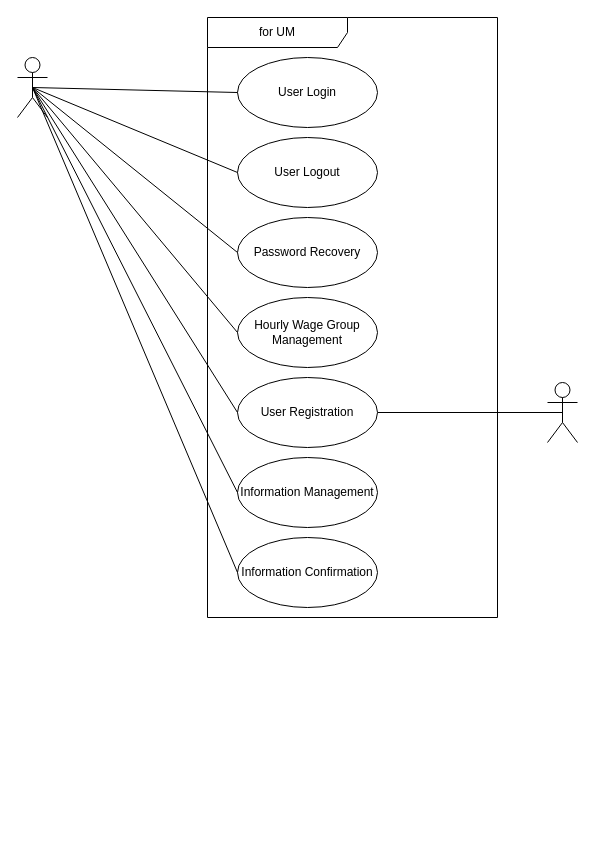
Some shapes in this 604 by 863 pixel diagram are drawn without their labels. Here are the shapes that lost their labels. From the top down, the centre of each, then its label:
At (32,87): "UM".
At (562,412): "All Users".
